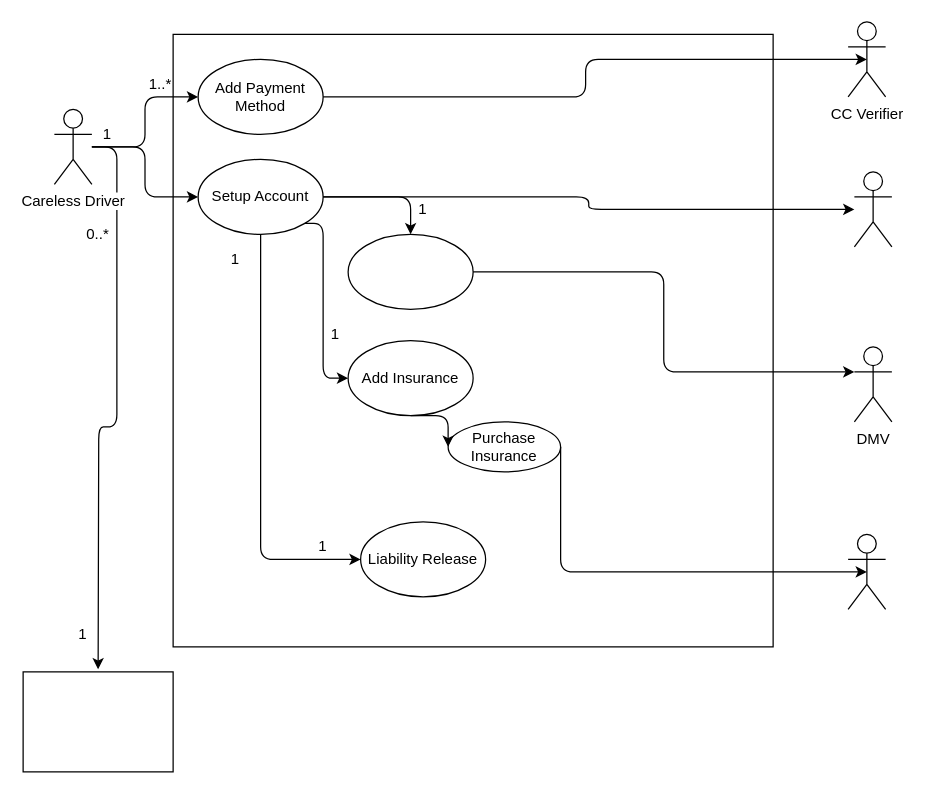
Image size: 946x794. Some labels were removed from this diagram. Here are the shapes that lost their labels. From the top down, the centre of each, then its label:
At point 872,209: "Auth Service".
At point 410,271: "Add Driver License".
At point 866,571: "Insurance Verifier".
At point 97,721: "Repository".
